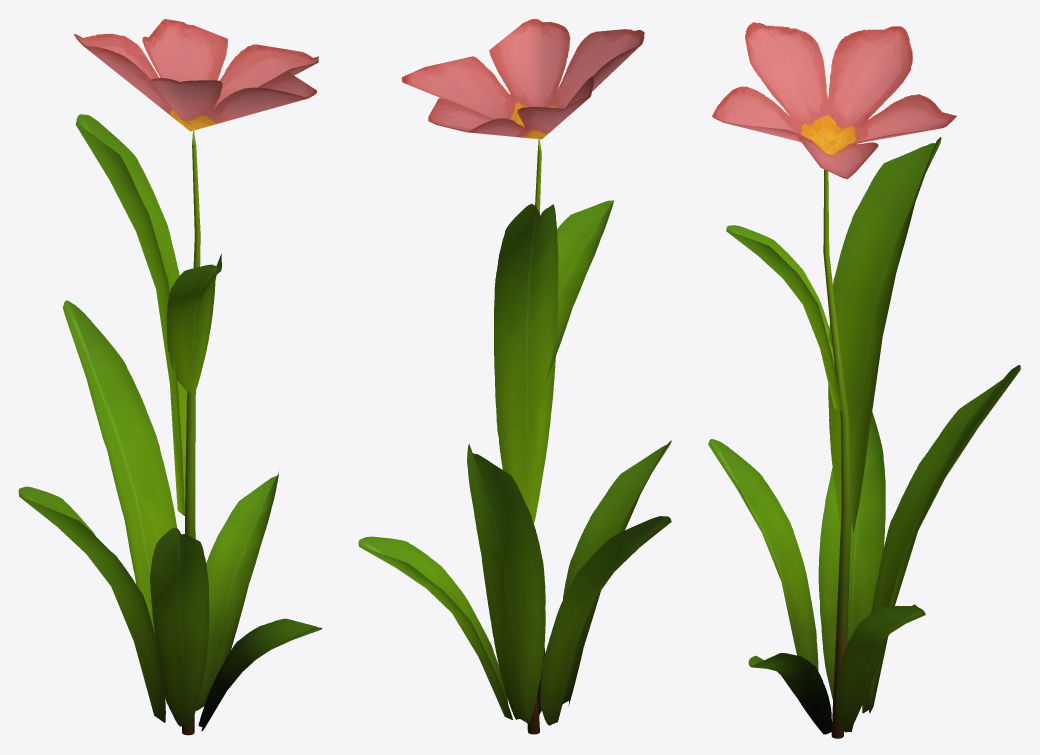
File: Flower_3_Single.gltf
3 views of the same model, side by side, from view 1: azimuth 30°, elevation 25°; view 2: azimuth 150°, elevation 25°; view 3: azimuth 270°, elevation 25° (orthographic). The views are drawn at different scales.
Parts seen in each view (by area): view 1: Flower_3_Single; view 2: Flower_3_Single; view 3: Flower_3_Single.
Part boxes in pixels (bbox=[...]): Flower_3_Single: bbox=[18, 19, 322, 735]; Flower_3_Single: bbox=[358, 18, 671, 734]; Flower_3_Single: bbox=[708, 22, 1020, 738].
Size of the model in its own units: 0.9066 by 2.07 by 0.8775.
2 materials, 2 textured.
